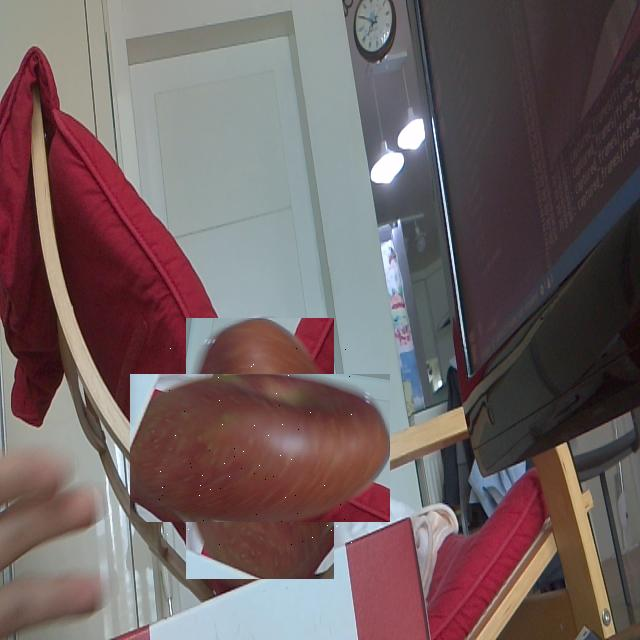apple: (158, 346, 362, 551)
